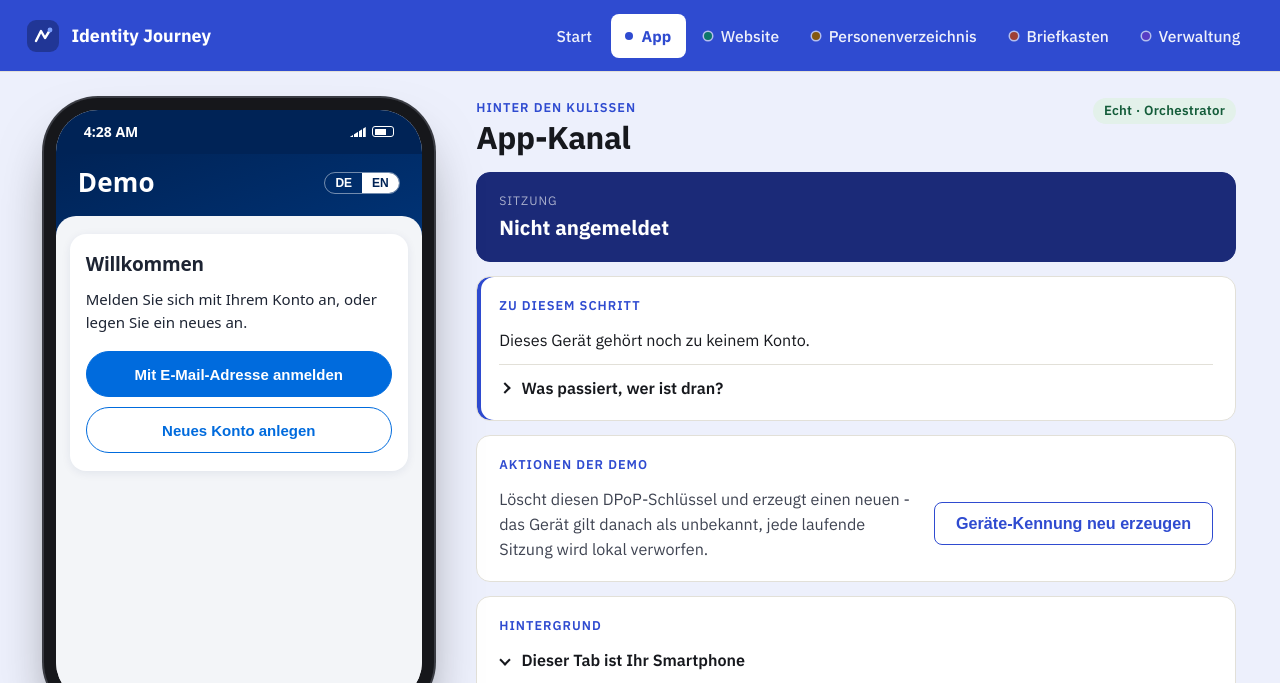
Test: discarding a registration, without demo mode › asks once the backend reports an account under construction (REGISTERING) and ends on the start screen
Click the button "Neues Konto anlegen". click: (239, 430)
box: x1=86 y1=407 x2=392 y2=453
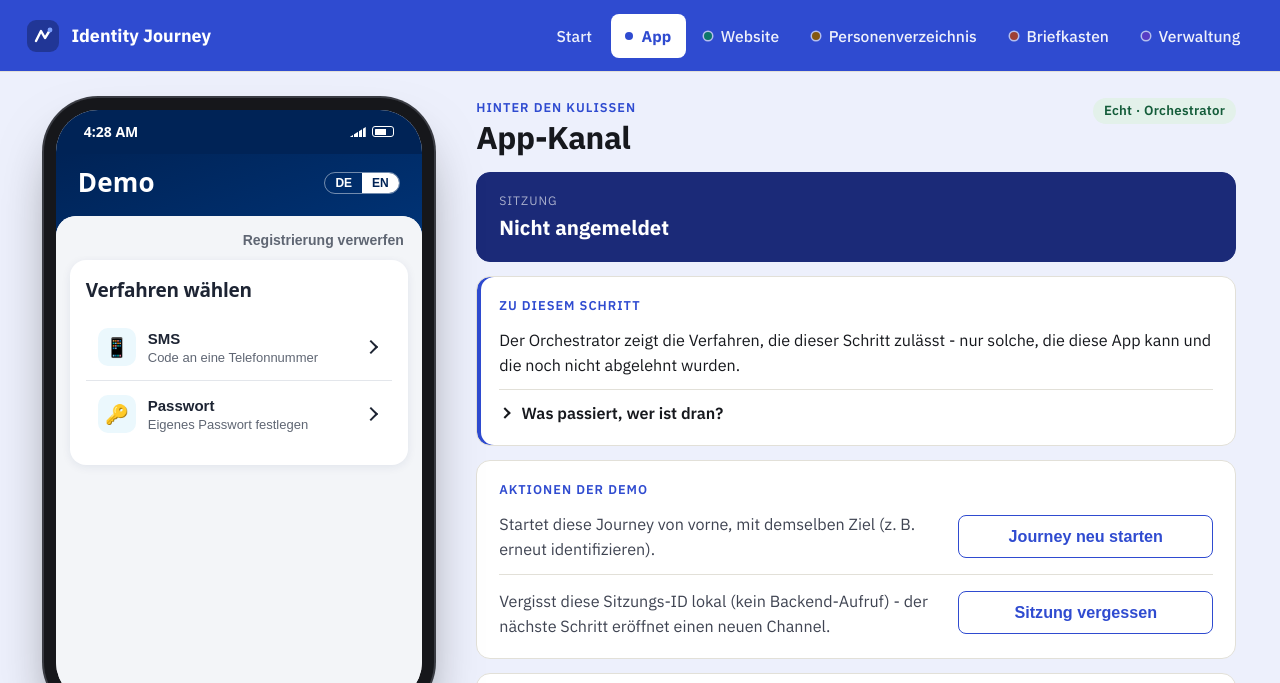
Click the button "Registrierung verwerfen". click: (323, 240)
box: x1=235 y1=224 x2=412 y2=256
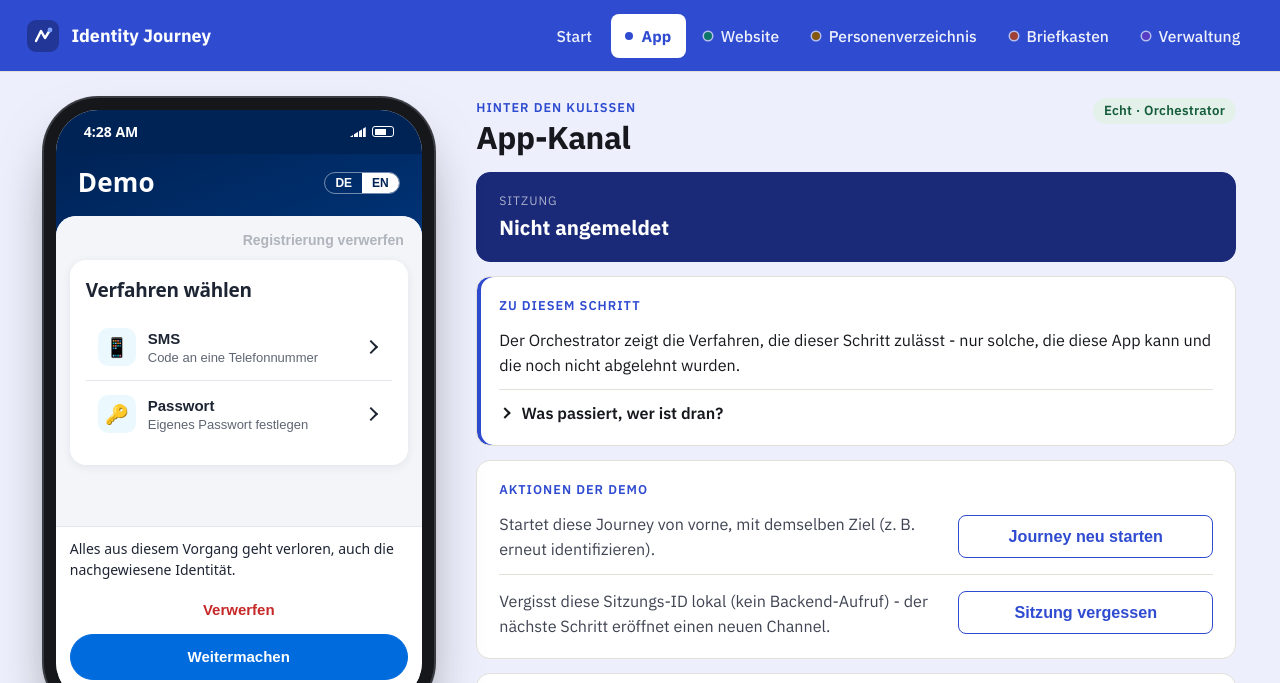
Click the button "Verwerfen". click: (239, 610)
box: x1=70 y1=590 x2=408 y2=630
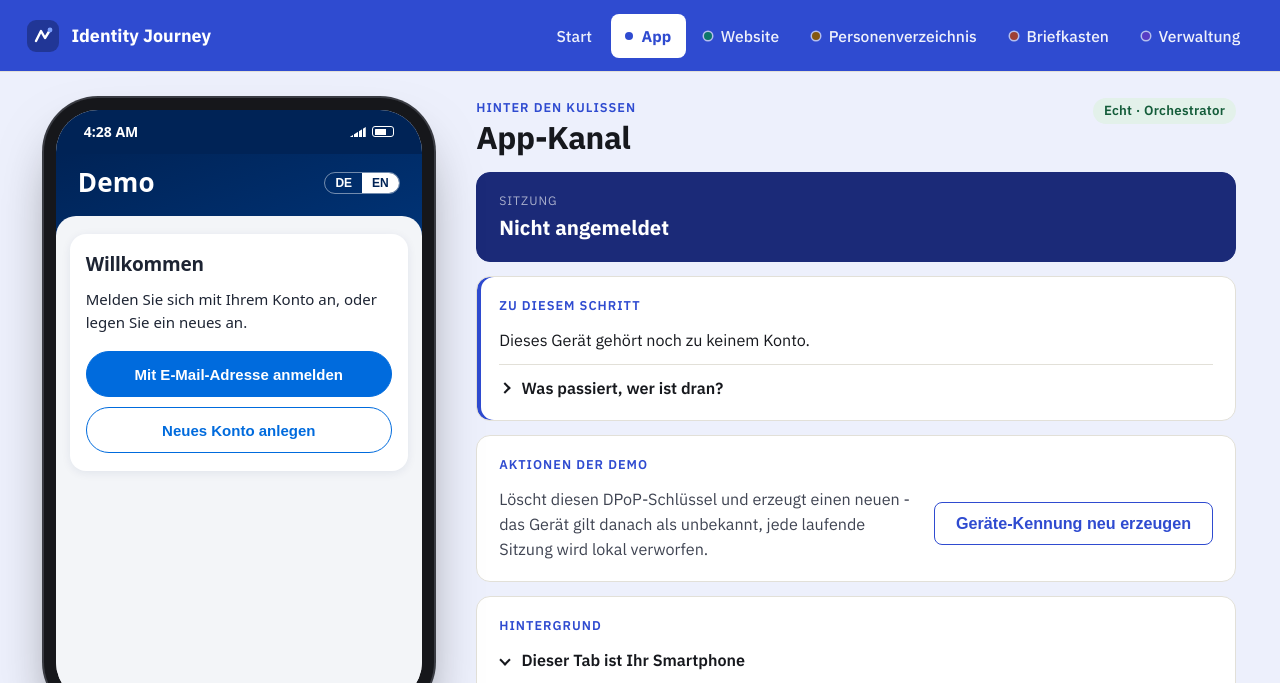
Result: the heading "Willkommen" is shown at x1=86 y1=251 x2=204 y2=277
